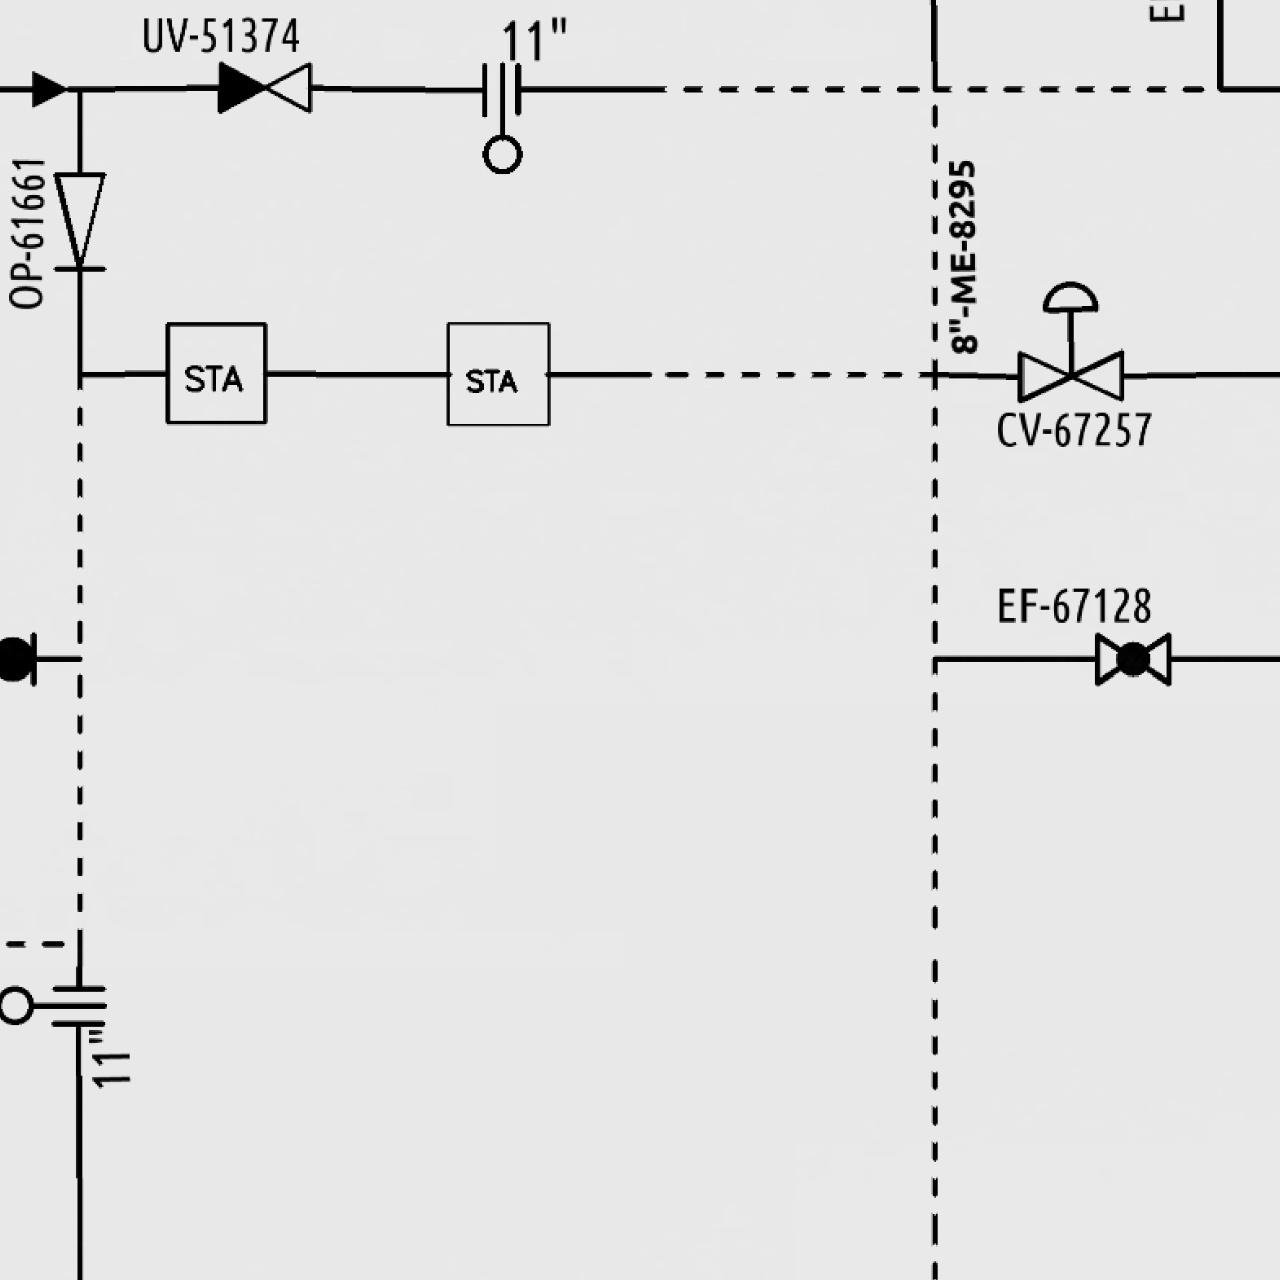Half closed valve: (213, 56, 315, 116)
